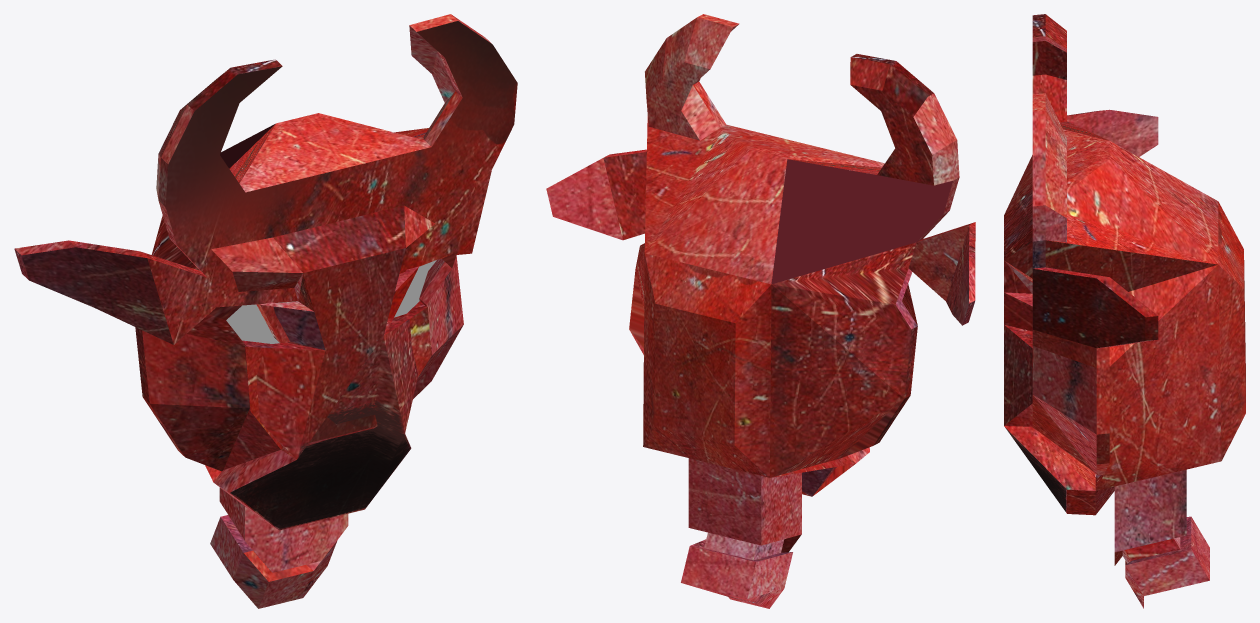
The model's file is bullHeadNew.fbx.
3 views of the same model, side by side, from view 1: azimuth 30°, elevation 25°; view 2: azimuth 150°, elevation 25°; view 3: azimuth 270°, elevation 25° (orthographic). The views are drawn at different scales.
Visible parts, largest first — view 1: OxHelmet; view 2: OxHelmet; view 3: OxHelmet.
Part boxes in pixels (x1,y1,x2,y2): OxHelmet: [14, 14, 517, 608]; OxHelmet: [546, 14, 975, 608]; OxHelmet: [1004, 14, 1245, 608].
Size of the model in its own units: 202 by 241 by 97.88.
